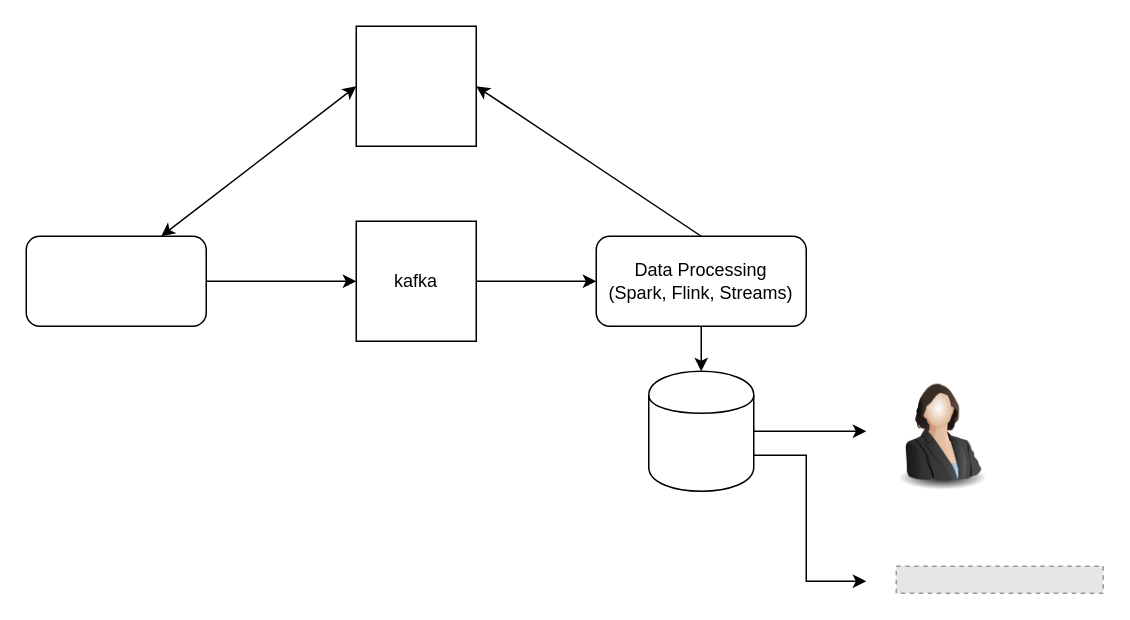
This 1130x620 diagram has some shape labels left out. Grey dashed boxes stand in for pictures. Each missing label, with the centre of its shape:
Producer: [115,280]
Schema Registry: [415,85]
